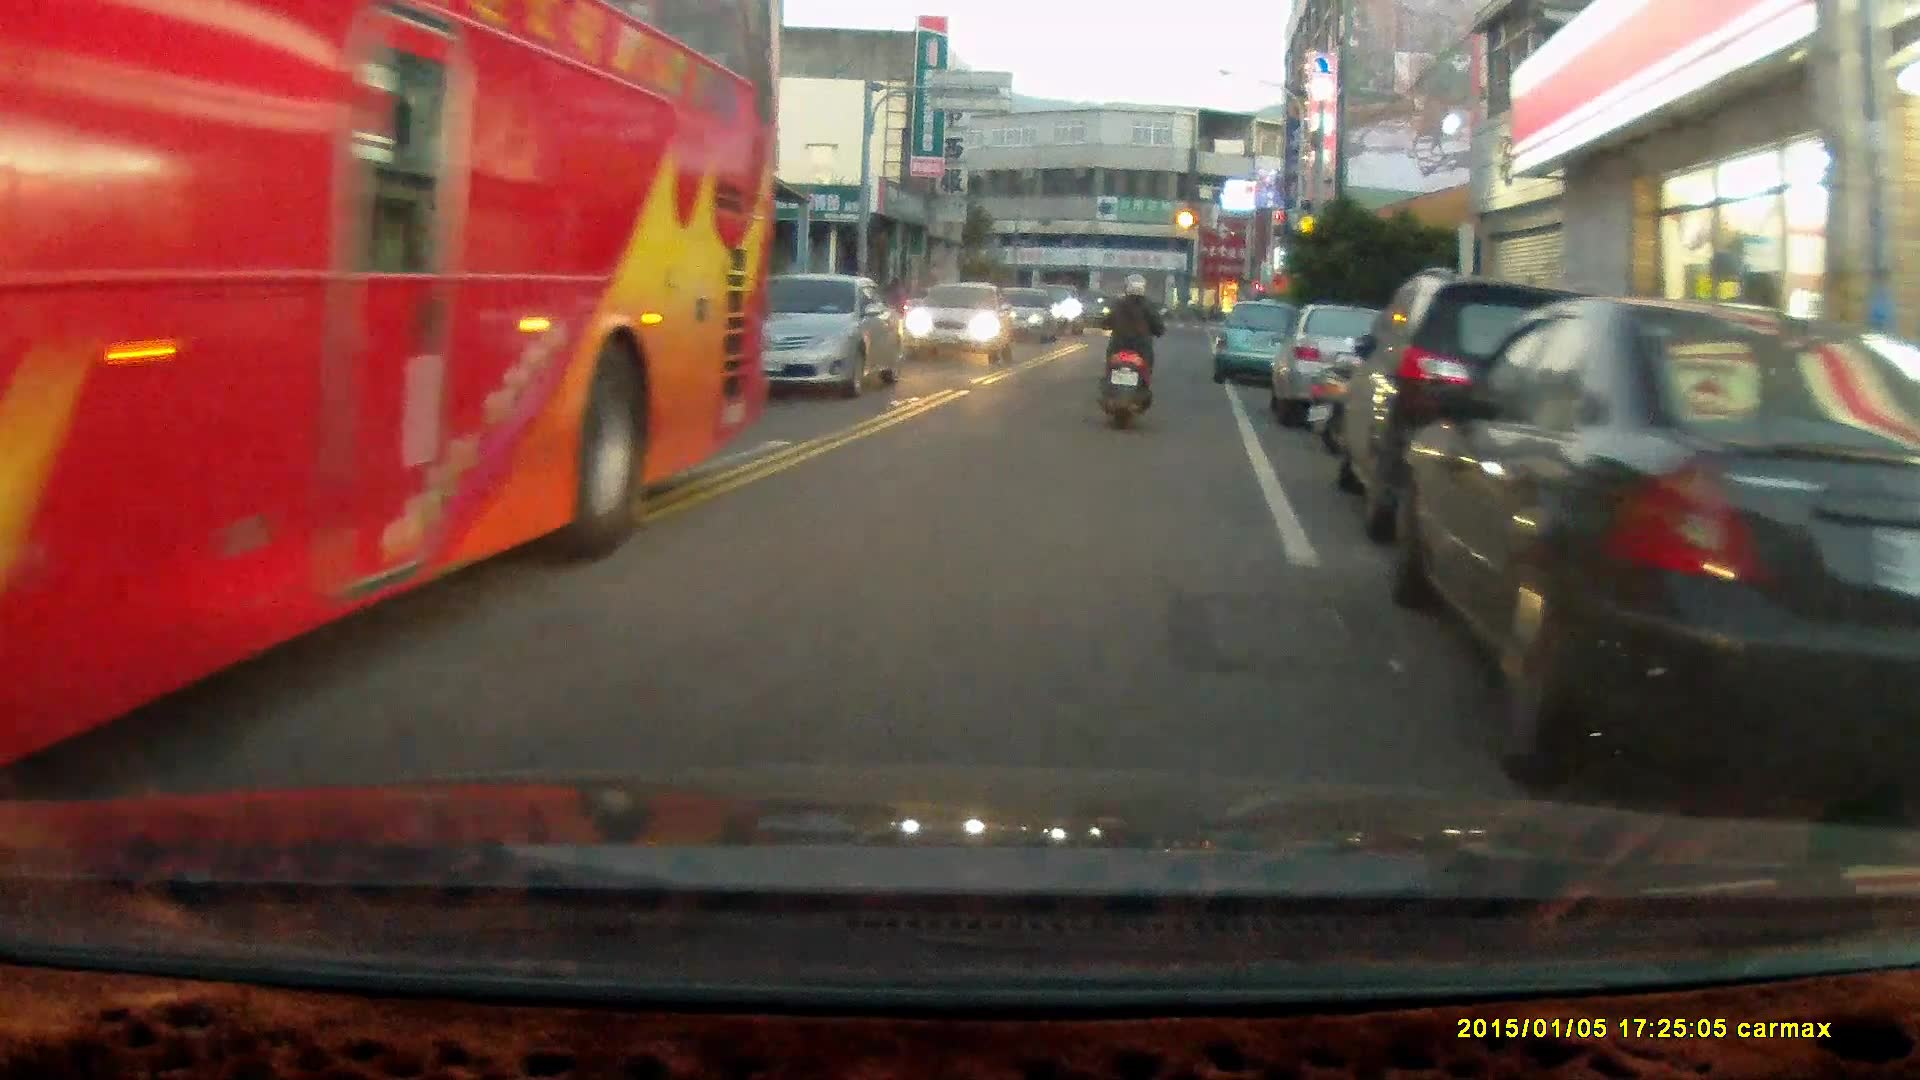rider: (1091, 272, 1165, 430)
vehicle: (1, 9, 780, 770), (1390, 294, 1920, 787), (1326, 265, 1715, 550), (705, 278, 897, 400), (1275, 304, 1450, 434), (904, 281, 1017, 368), (1210, 300, 1305, 386)
